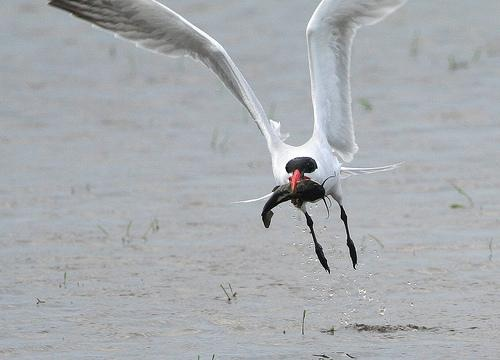bird: (45, 1, 416, 274)
